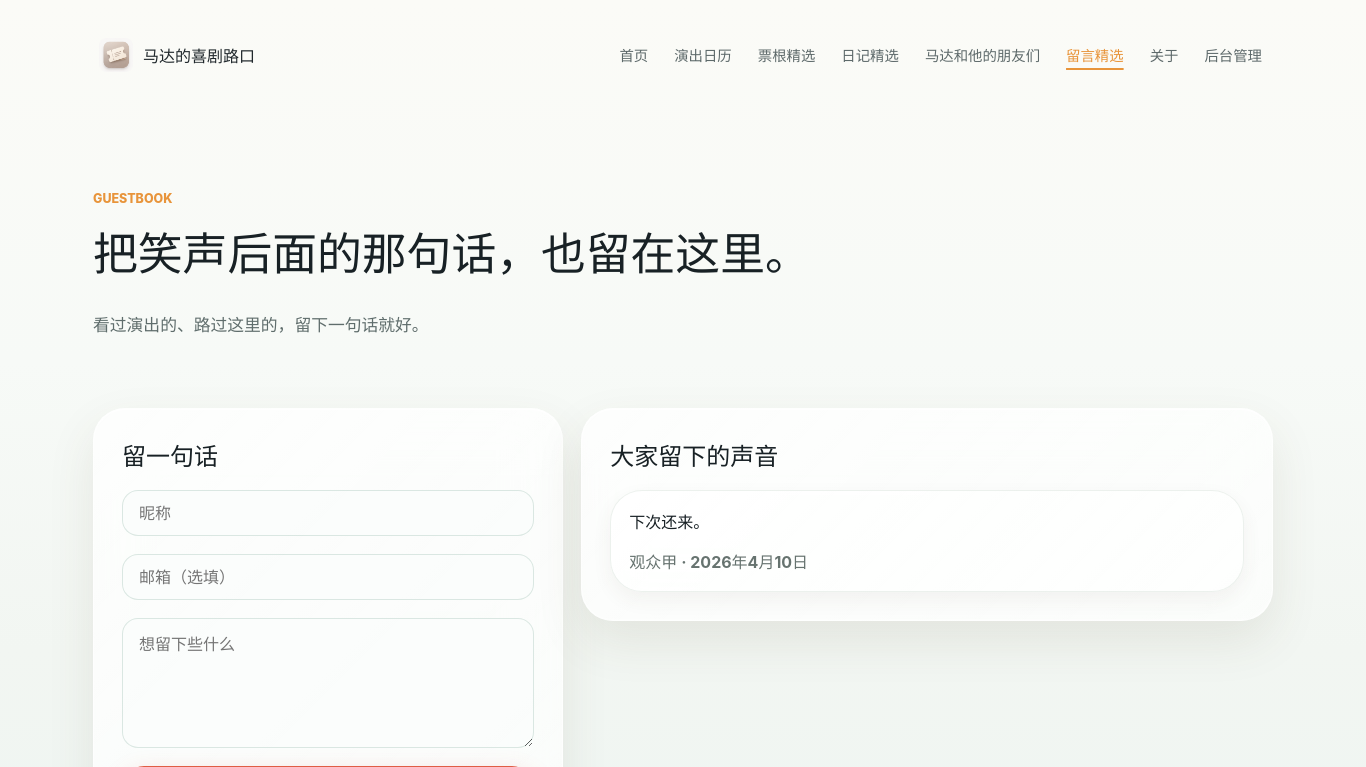
Test case: GuestbookPage › loads messages and submits a new message
The width and height of the screenshot is (1366, 767).
Expected: the text "下次还来。" is shown, [629,512,709,532]
Step 1. Type "小马" into the field with placeholder "昵称" → (328, 513), box [122,490,534,536]
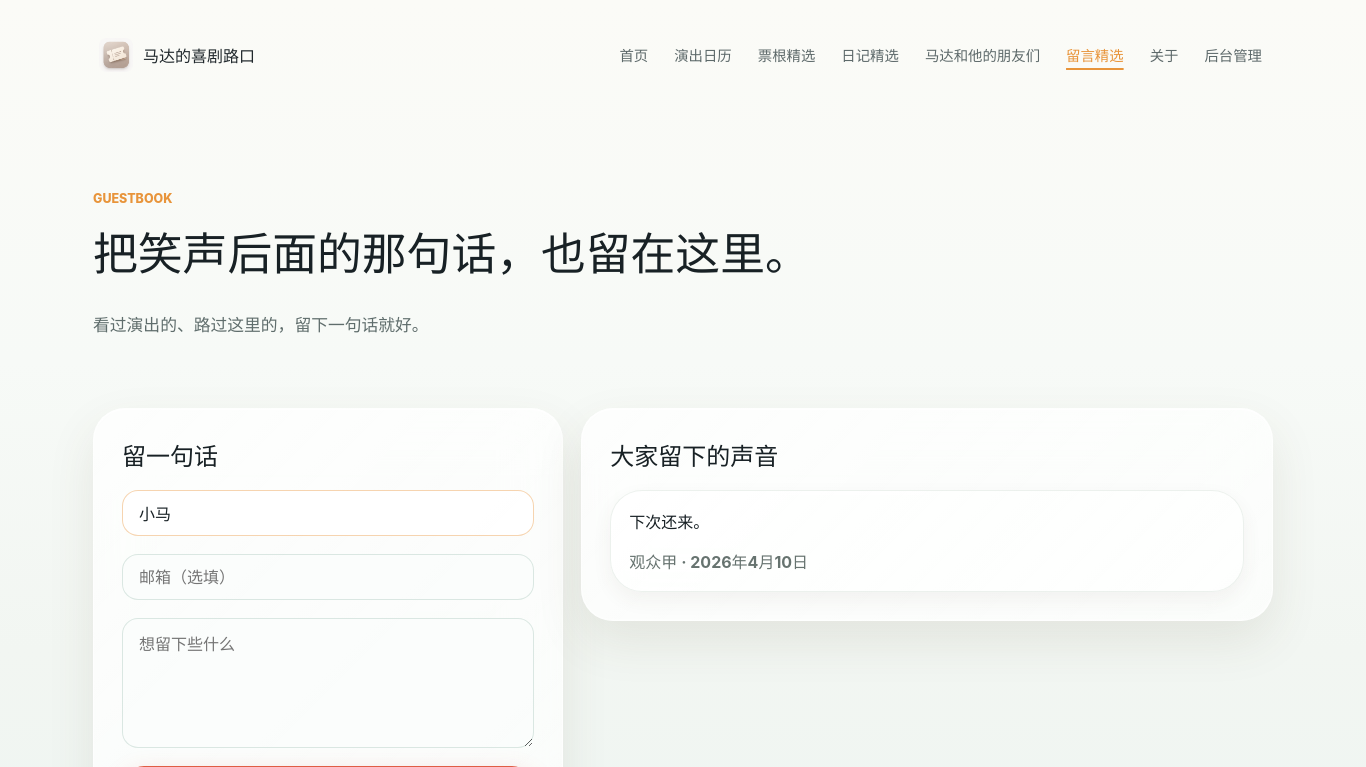
Step 2. Type "pony@example.com" into the field with placeholder "邮箱（选填）" → (328, 577), box [122,554,534,600]
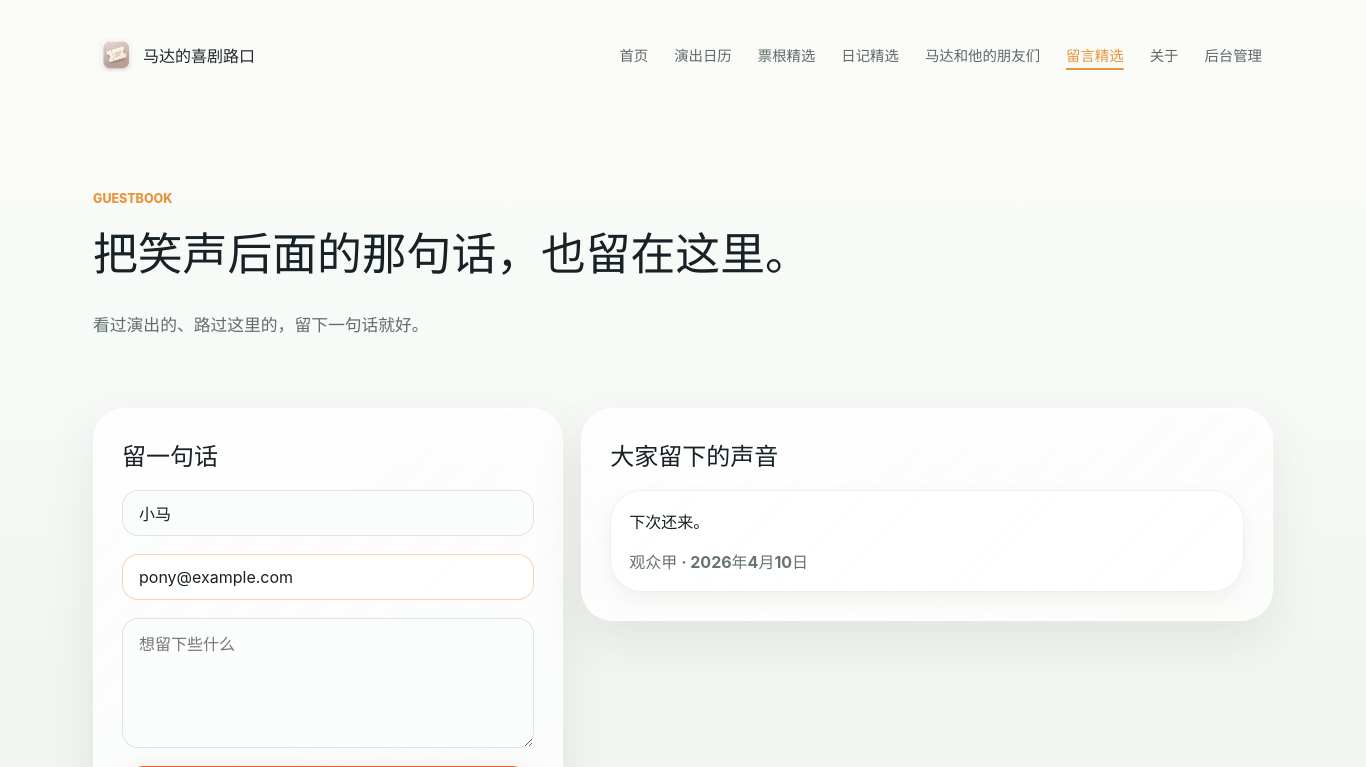
Step 3. Type "今晚笑得很开心。" into the text box with placeholder "想留下些什么" → (328, 683), box [122,618,534,748]
(page scrolled)
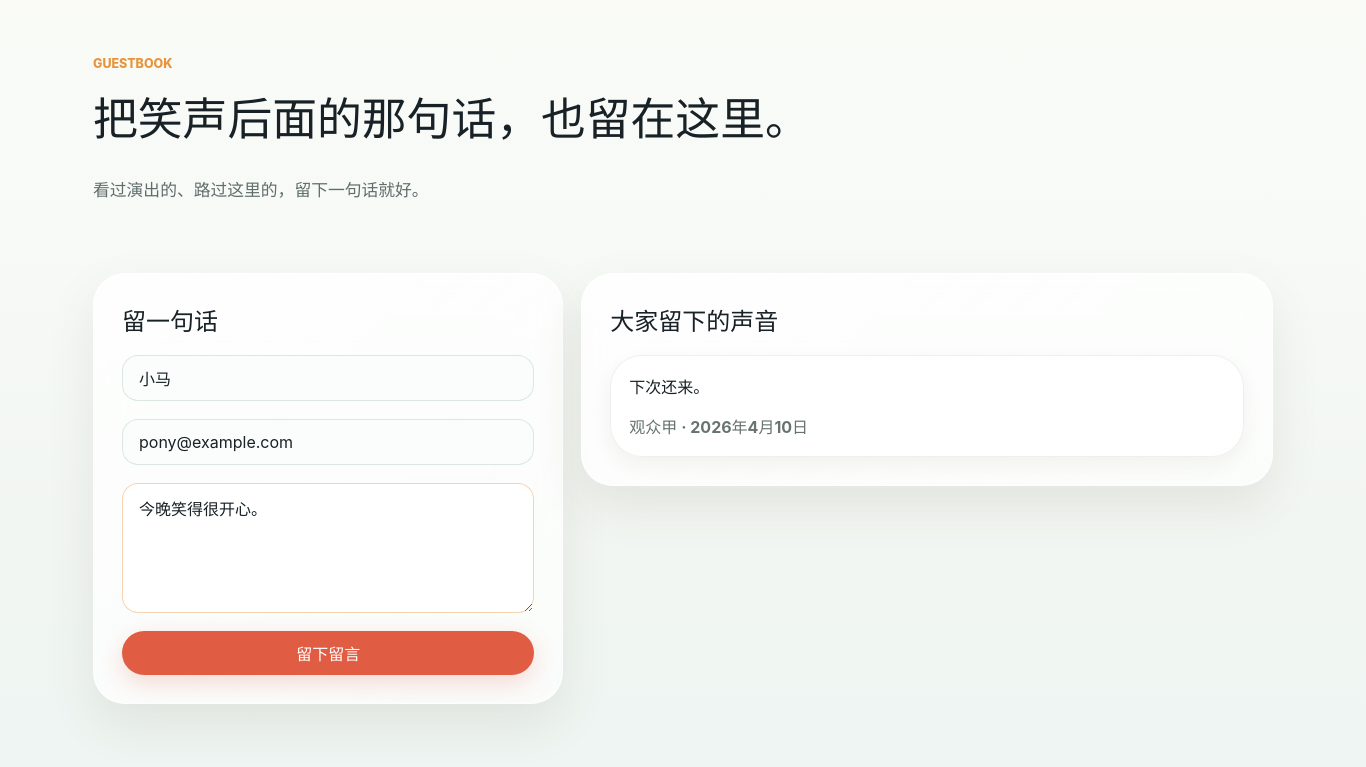
Step 4. Click the button "留下留言" → click(328, 653), box [122,631,534,675]
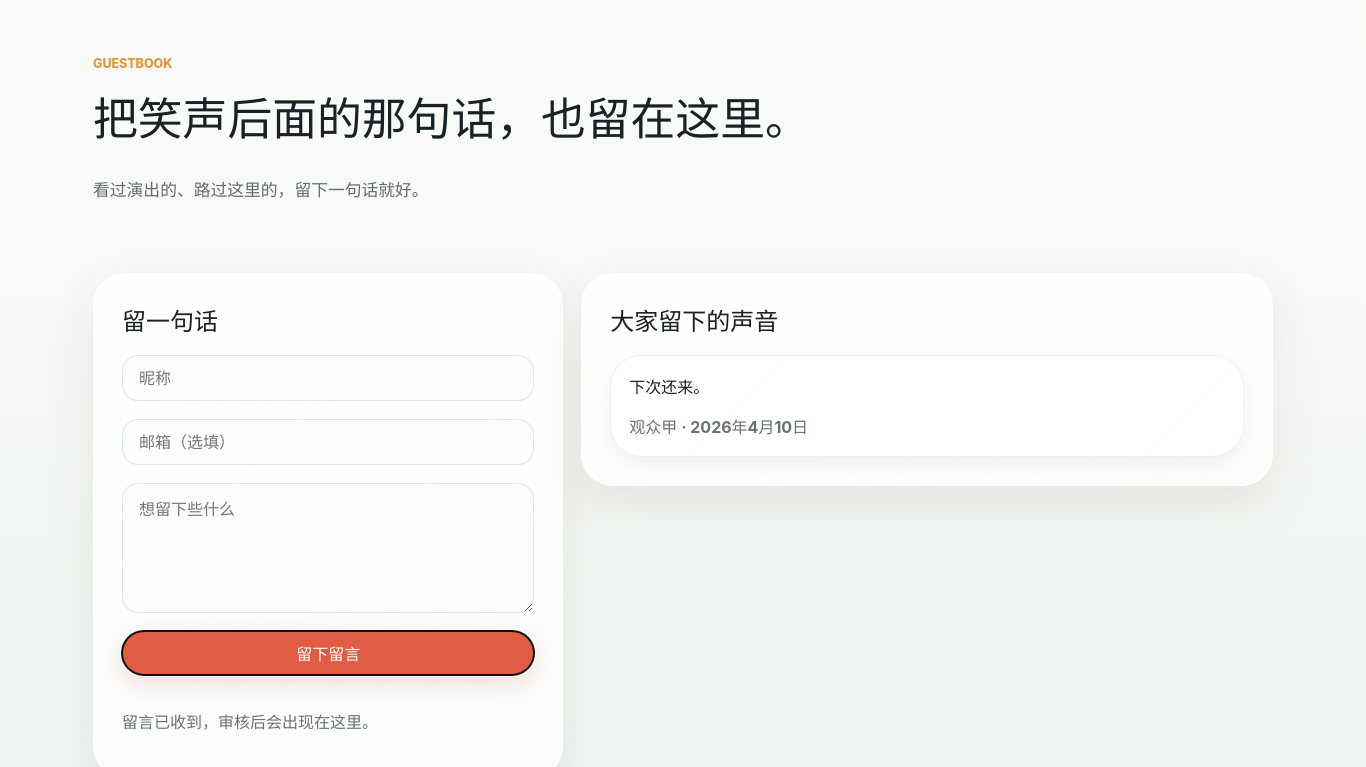
Now the text "留言已收到，审核后会出现在这里。" is shown, box [122,712,378,732]
